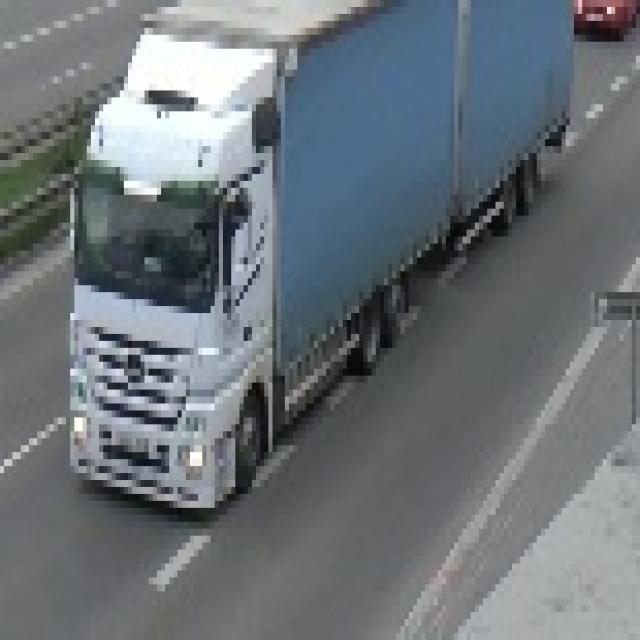TRUCK: (64, 1, 572, 511)
